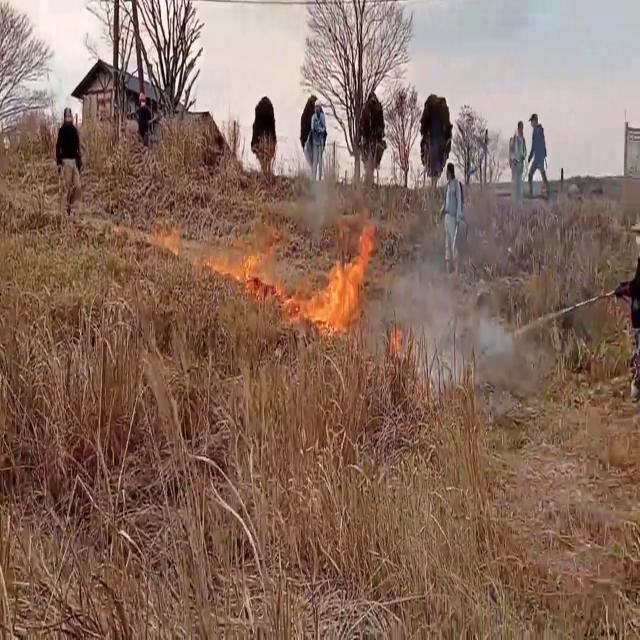Fire: (153, 224, 294, 302), (304, 218, 378, 334)
Smoke: (378, 218, 498, 376)
